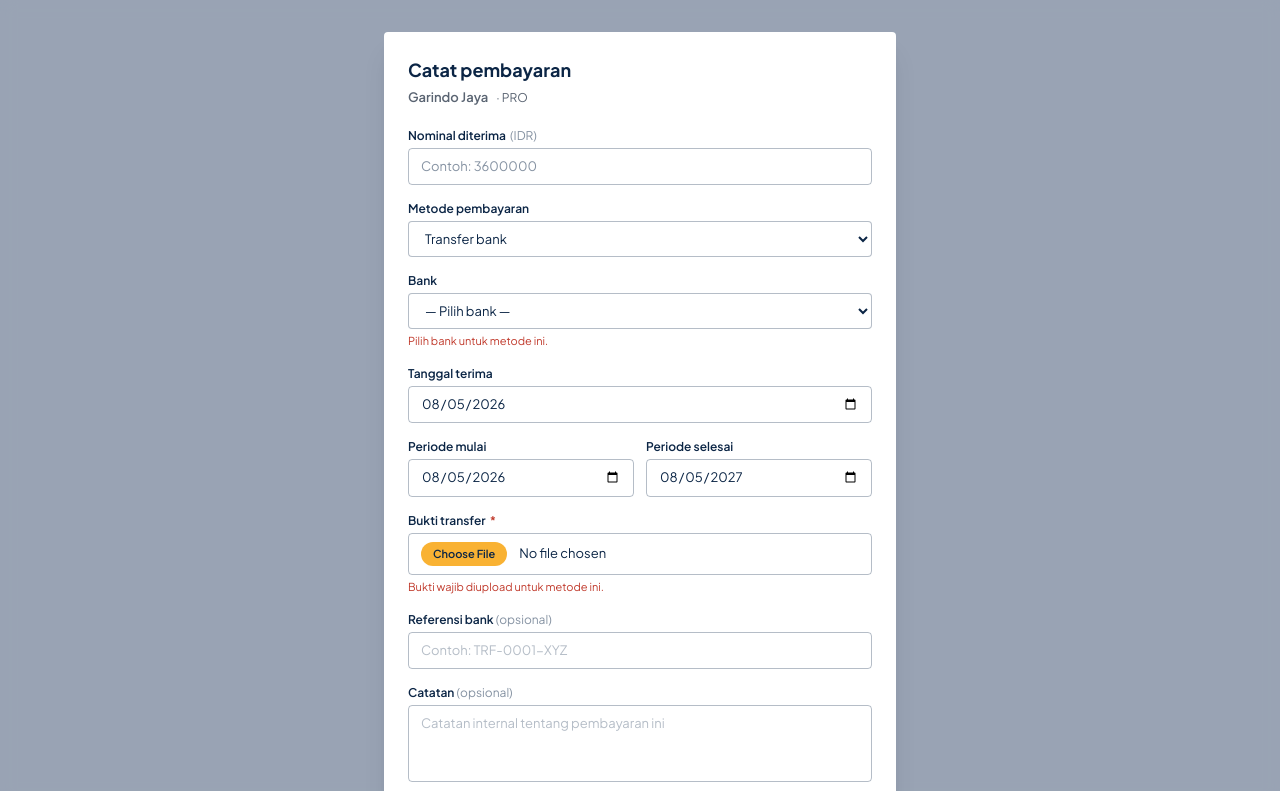
Test case: RecordPaymentModal › shows ewallet dropdown for E_WALLET method
Select "E-Wallet" in the dropdown labelled "Metode pembayaran": (640, 239) [408, 221, 872, 257]
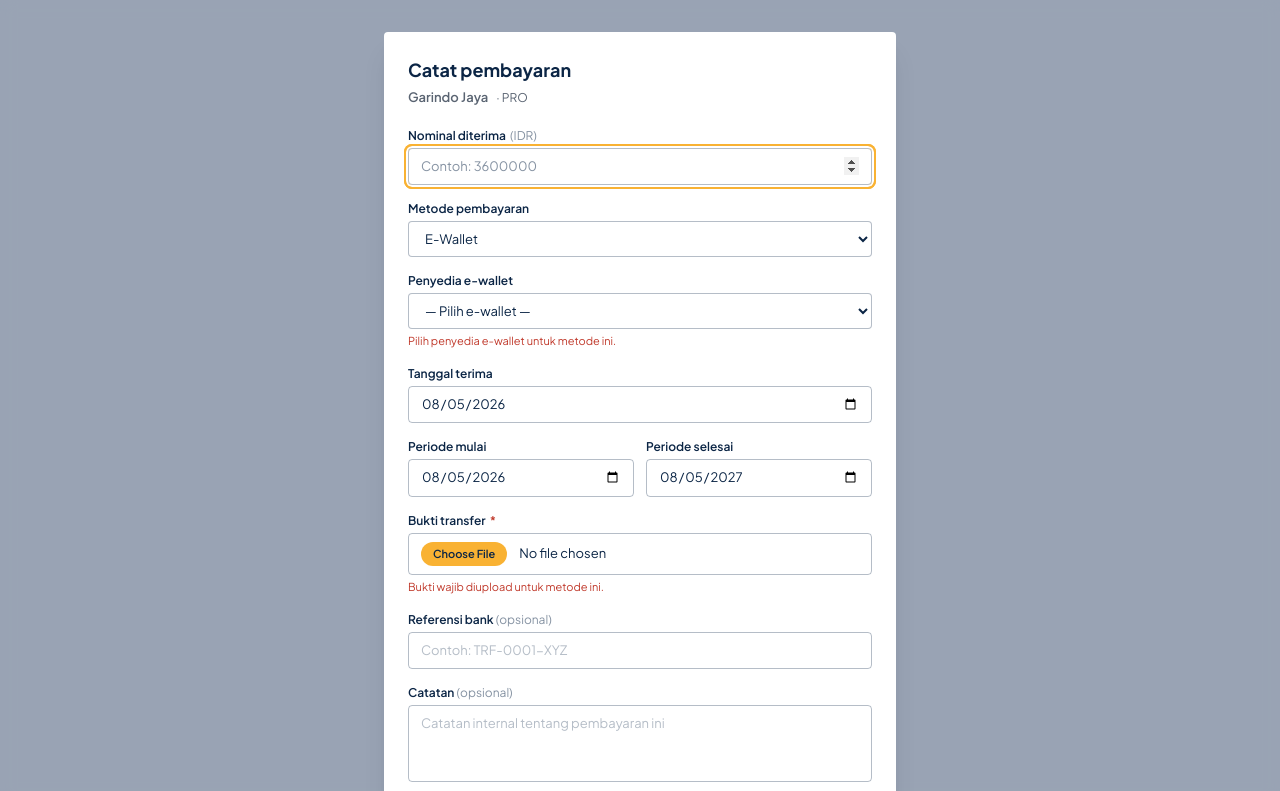
Expected: the dropdown labelled "Penyedia e-wallet" is shown, [408, 293, 872, 329]
